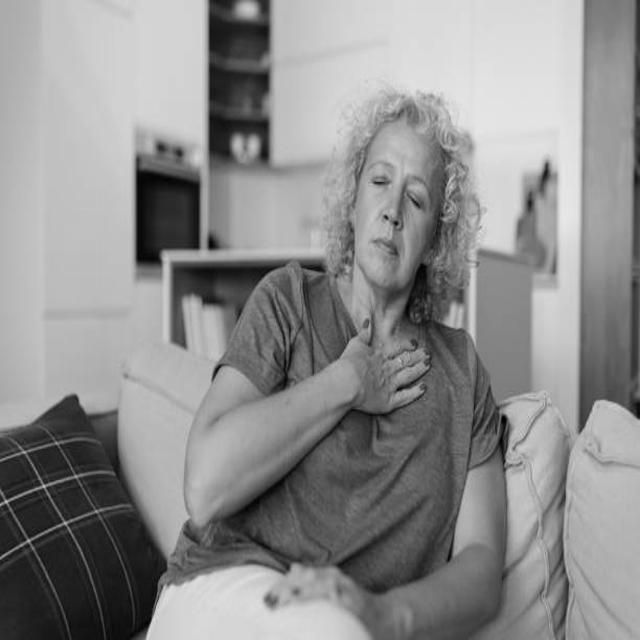Sadness: (350, 120, 445, 295)
